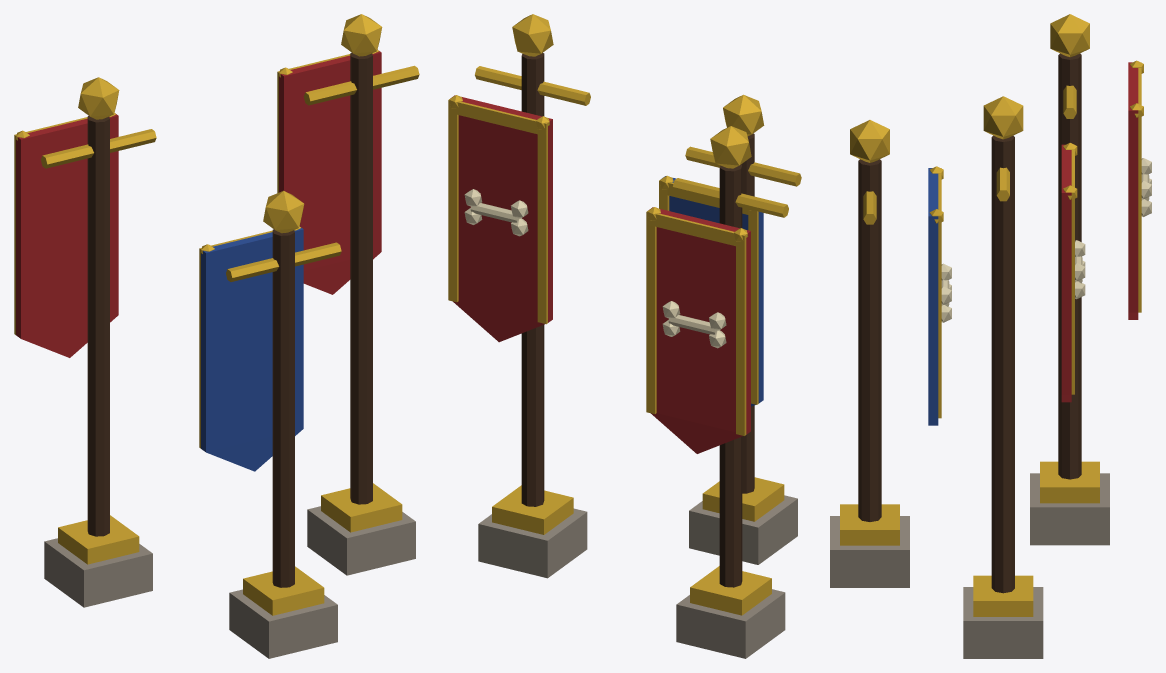
The model's file is Decor_DogeAltar_Banners.fbx.
3 views of the same model, side by side, from view 1: azimuth 30°, elevation 25°; view 2: azimuth 150°, elevation 25°; view 3: azimuth 270°, elevation 25° (orthographic).
Visible parts, largest first — view 1: Banners_Body; view 2: Banners_Body; view 3: Banners_Body.
Boxes of the visible parts, <box> form: Banners_Body: <box>14,14,419,658</box>; Banners_Body: <box>448,14,801,658</box>; Banners_Body: <box>830,14,1151,658</box>.
Size of the model in its own units: 11.4 by 17.3 by 9.25.
